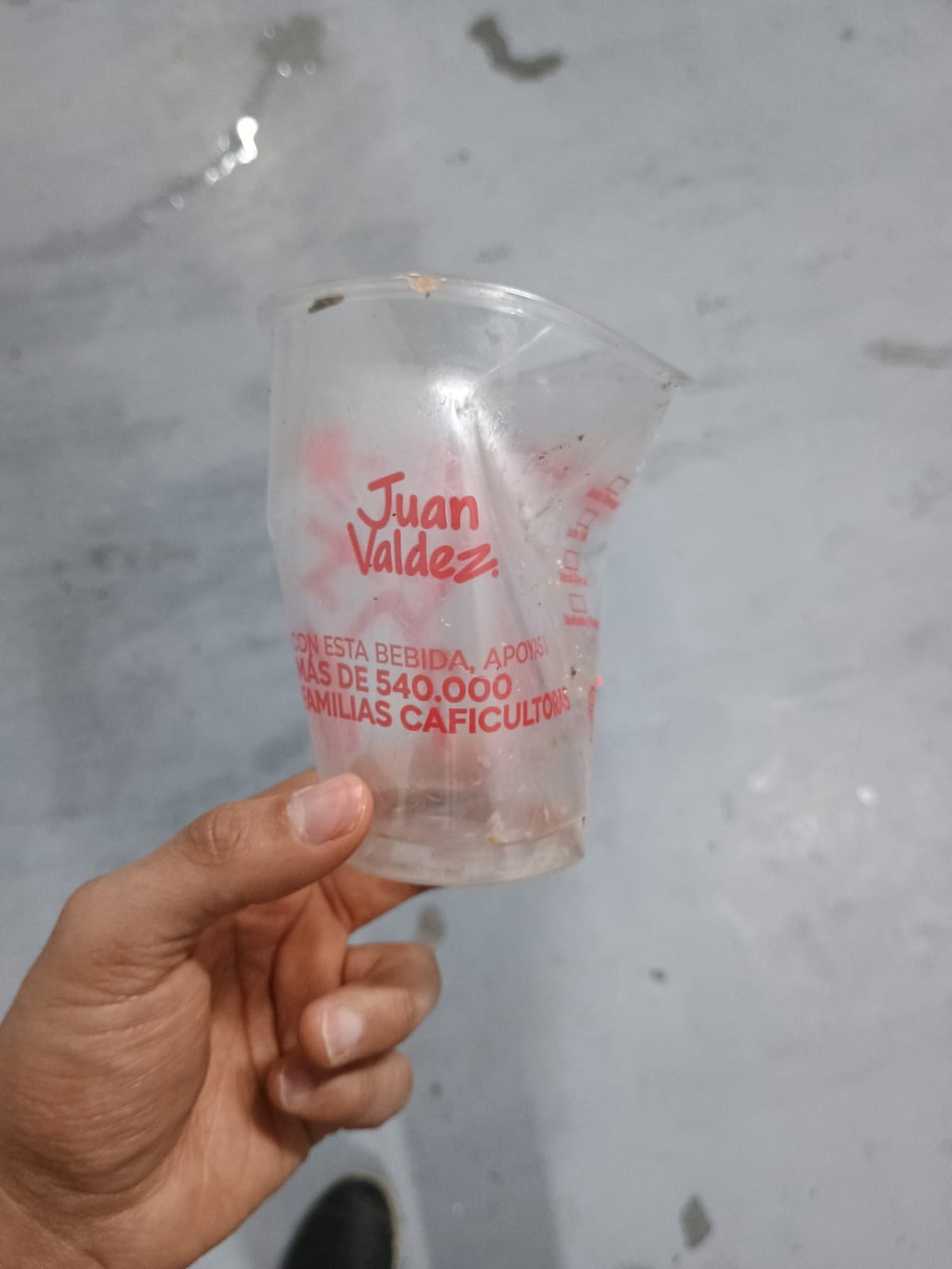Plastico: (250, 274, 694, 883)
